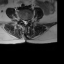CCS_stenosis: (24, 19, 26, 26)
LFS_stenosis: (28, 18, 30, 22)
LLS_normal: (26, 19, 28, 24)
RFS_stenosis: (20, 18, 23, 23)
RLS_normal: (23, 18, 24, 24)
